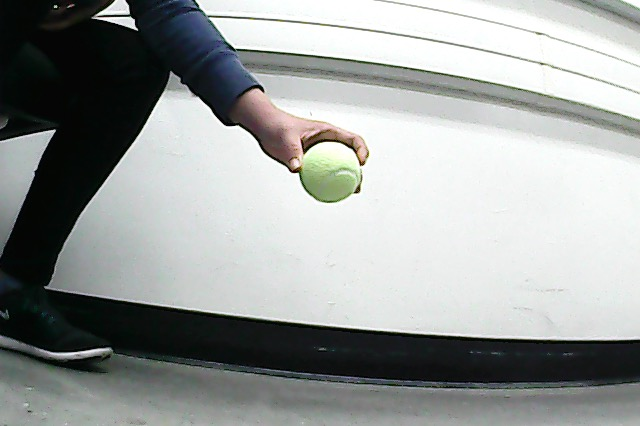ball: (298, 139, 363, 206)
